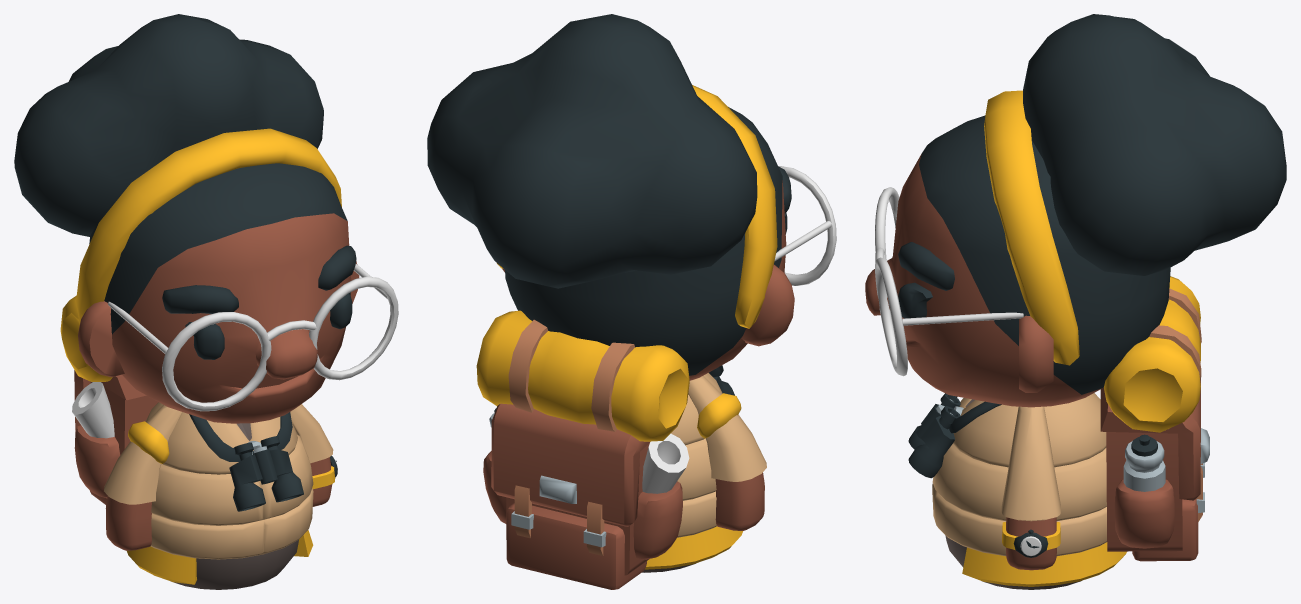
The model's file is character_explorer.gltf.
The picture shows the model from 3 angles, left to right: view 1: azimuth 30°, elevation 25°; view 2: azimuth 150°, elevation 25°; view 3: azimuth 270°, elevation 25°; orthographic projection. The views are drawn at different scales.
Visible parts, largest first — view 1: character_explorerHead, character_explorerBody, backpack, glasses, character_explorerArmRight, binoculars_neck, character_explorerArmLeft; view 2: character_explorerHead, backpack, character_explorerArmRight, character_explorerBody, glasses; view 3: character_explorerHead, backpack, character_explorerBody, character_explorerArmLeft, glasses, binoculars_neck.
Boxes of the visible parts, left/top/right/bottom form: character_explorerHead: left=14, top=14, right=359, bottom=423; character_explorerBody: left=127, top=402, right=313, bottom=589; backpack: left=60, top=295, right=158, bottom=504; glasses: left=108, top=264, right=398, bottom=411; character_explorerArmRight: left=104, top=405, right=182, bottom=550; binoculars_neck: left=189, top=412, right=303, bottom=511; character_explorerArmLeft: left=290, top=404, right=337, bottom=506; character_explorerHead: left=427, top=14, right=794, bottom=380; backpack: left=476, top=310, right=689, bottom=589; character_explorerArmRight: left=688, top=375, right=766, bottom=530; character_explorerBody: left=642, top=373, right=742, bottom=572; glasses: left=774, top=166, right=836, bottom=285; character_explorerHead: left=865, top=14, right=1286, bottom=407; backpack: left=1100, top=276, right=1209, bottom=561; character_explorerBody: left=932, top=393, right=1126, bottom=589; character_explorerArmLeft: left=1001, top=406, right=1060, bottom=570; glasses: left=875, top=187, right=1023, bottom=376; binoculars_neck: left=908, top=393, right=1001, bottom=478.
Size of the model in its own units: 1.22 by 2.09 by 1.48.
